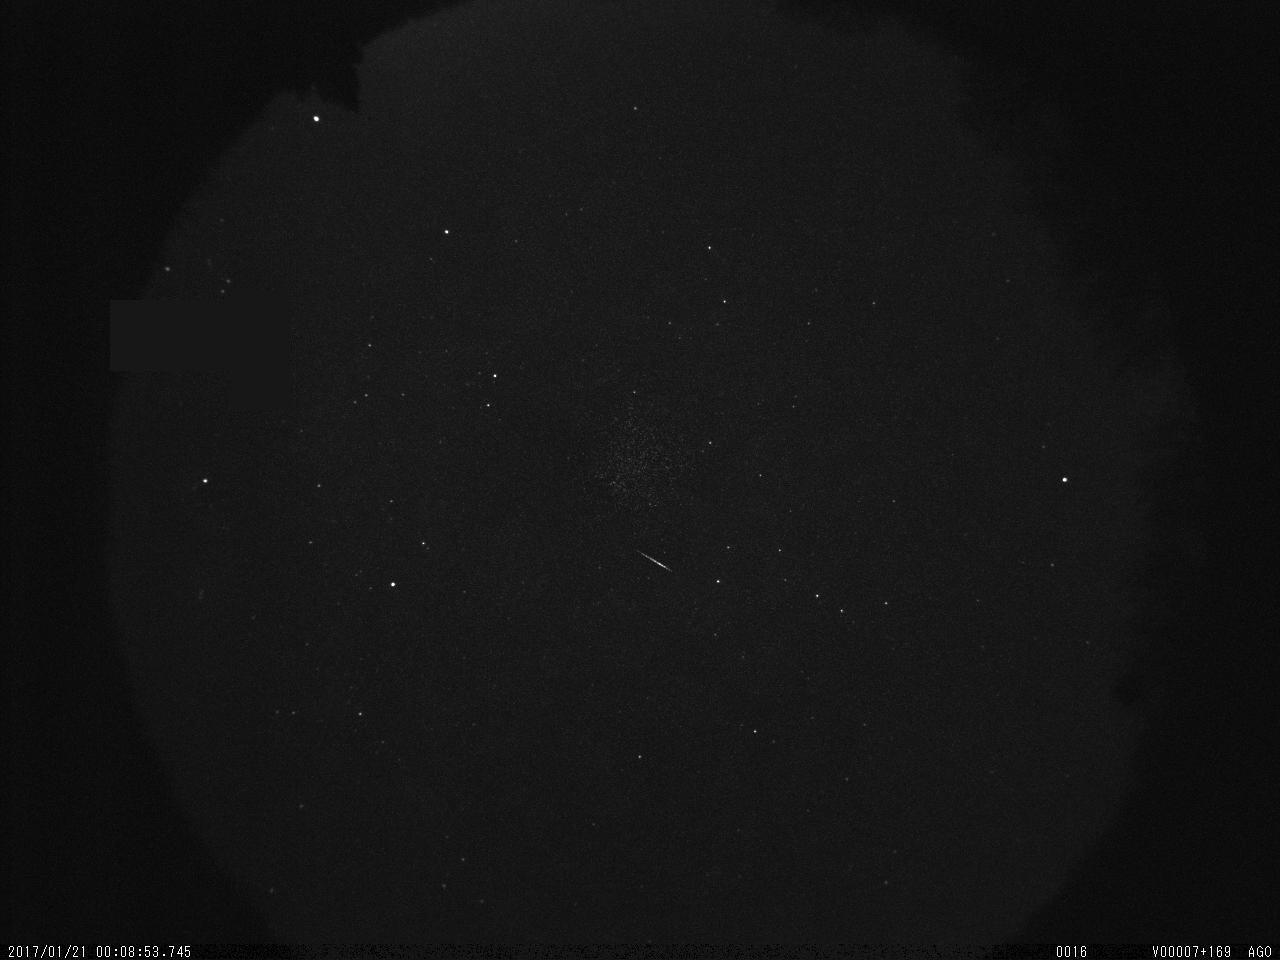meteor: (626, 541, 682, 580)
